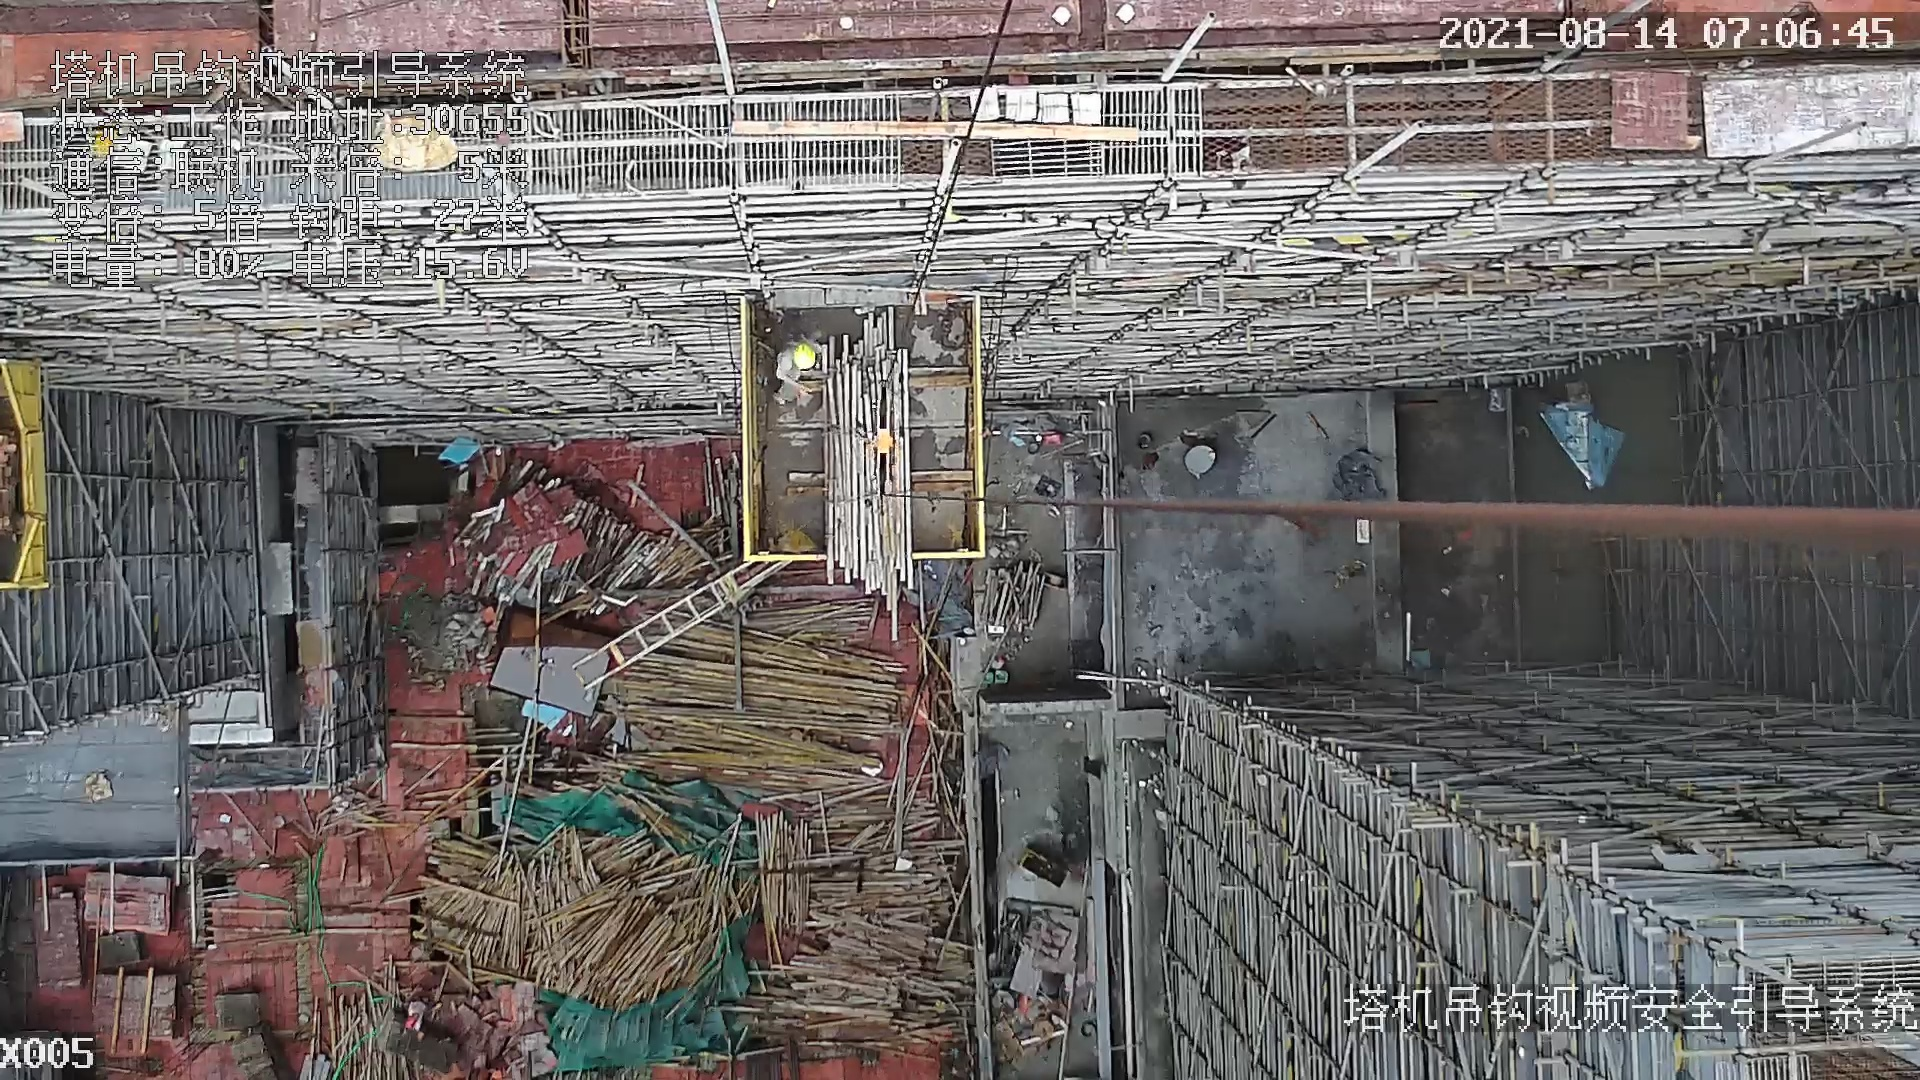helmet: (792, 344, 816, 370)
hook: (862, 380, 897, 505)
person: (773, 336, 829, 409)
